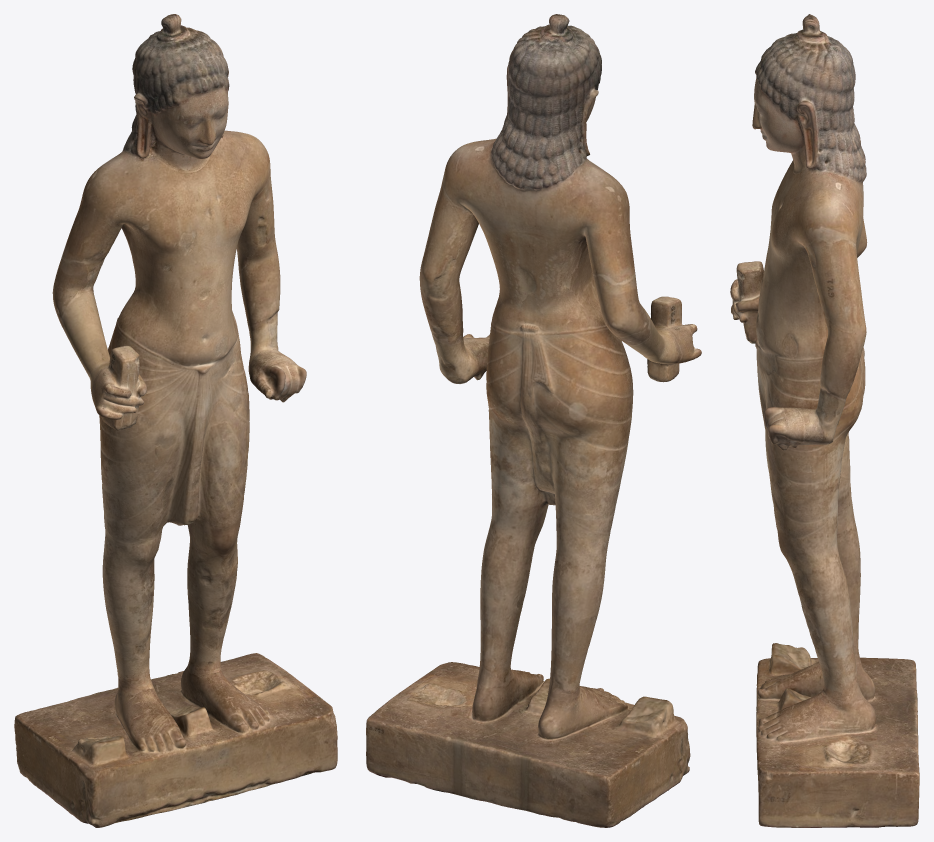
The picture shows the model from 3 angles, left to right: view 1: azimuth 30°, elevation 25°; view 2: azimuth 150°, elevation 25°; view 3: azimuth 270°, elevation 25°; orthographic projection. The views are drawn at different scales.
Visible parts, largest first — view 1: Diety; view 2: Diety; view 3: Diety.
Part boxes in pixels (left/top/right/bottom): Diety: left=14, top=14, right=337, bottom=827; Diety: left=366, top=14, right=701, bottom=827; Diety: left=730, top=14, right=919, bottom=827.
Bounding box in the file's own units: 0.5926 × 1.75 × 0.3997.
Materials: 1 (1 with a texture image).
